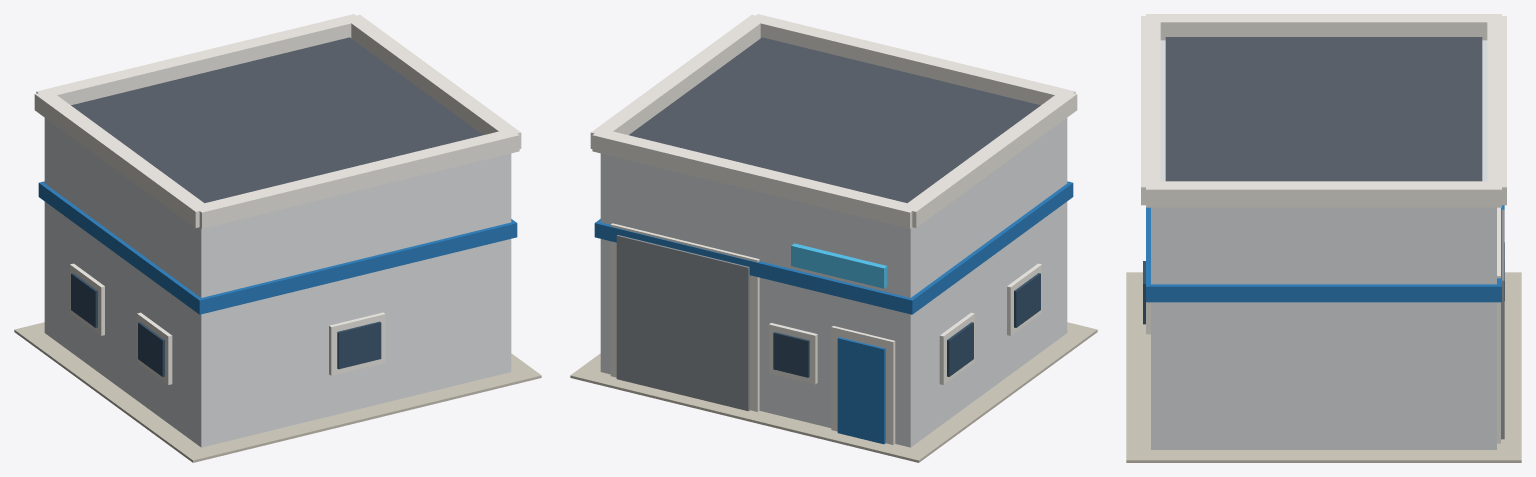
The model's file is annex-patrolWing.glb.
The picture shows the model from 3 angles, left to right: view 1: azimuth 30°, elevation 25°; view 2: azimuth 150°, elevation 25°; view 3: azimuth 270°, elevation 25°; orthographic projection. The views are drawn at different scales.
Parts seen in each view (by area): view 1: building, roof, parapet (×4), ground, accent_stripe, window_glass (×3), window_frame (×3); view 2: building, roof, parapet (×4), garage_door, ground, accent_stripe, door, window_glass (×3), garage_door_frame, window_frame (×3), door_frame, sign; view 3: building, roof, parapet (×4), ground, accent_stripe, garage_door_frame, garage_door.
Boxes of the visible parts, x1,y1,x2,y2 form: building: (44, 118, 511, 447); roof: (71, 37, 482, 203); parapet (×4): (34, 14, 521, 228); ground: (14, 322, 541, 462); accent_stripe: (38, 181, 517, 314); window_glass (×3): (71, 273, 381, 376); window_frame (×3): (70, 263, 385, 384); building: (600, 118, 1067, 447); roof: (629, 37, 1040, 203); parapet (×4): (590, 14, 1077, 228); garage_door: (616, 235, 749, 411); ground: (570, 322, 1097, 462); accent_stripe: (594, 181, 1073, 314); door: (837, 337, 885, 444); window_glass (×3): (773, 273, 1040, 377); garage_door_frame: (610, 223, 759, 411); window_frame (×3): (769, 263, 1041, 384); door_frame: (831, 326, 895, 444); sign: (791, 243, 887, 288); building: (1151, 40, 1496, 449); roof: (1165, 37, 1482, 181); parapet (×4): (1141, 14, 1506, 207); ground: (1126, 272, 1521, 462); accent_stripe: (1146, 207, 1501, 302); garage_door_frame: (1497, 207, 1500, 443); garage_door: (1501, 209, 1504, 439).
Bounding box in the file's own units: 9 × 5.96 × 8.
